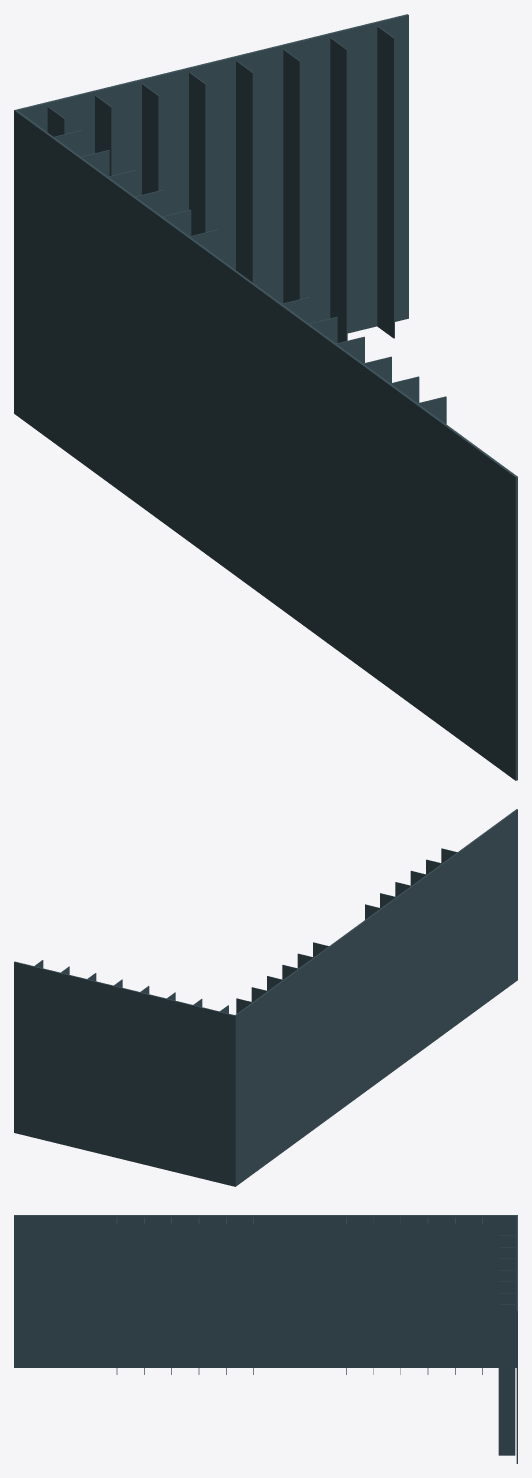
Rendered from PenhouseGlassWalls_mesh.fbx.
The picture shows the model from 3 angles, top to bottom: view 1: azimuth 30°, elevation 25°; view 2: azimuth 150°, elevation 25°; view 3: azimuth 270°, elevation 25°; orthographic projection. The views are drawn at different scales.
Visible parts, largest first — view 1: PenhouseGlassWalls_mesh; view 2: PenhouseGlassWalls_mesh; view 3: PenhouseGlassWalls_mesh.
Part boxes in pixels (x1=…): PenhouseGlassWalls_mesh: x1=14, y1=14, x2=517, y2=780; PenhouseGlassWalls_mesh: x1=14, y1=809, x2=517, y2=1186; PenhouseGlassWalls_mesh: x1=14, y1=1215, x2=517, y2=1463.
Bounding box in the file's own units: 433 × 319 × 957.
